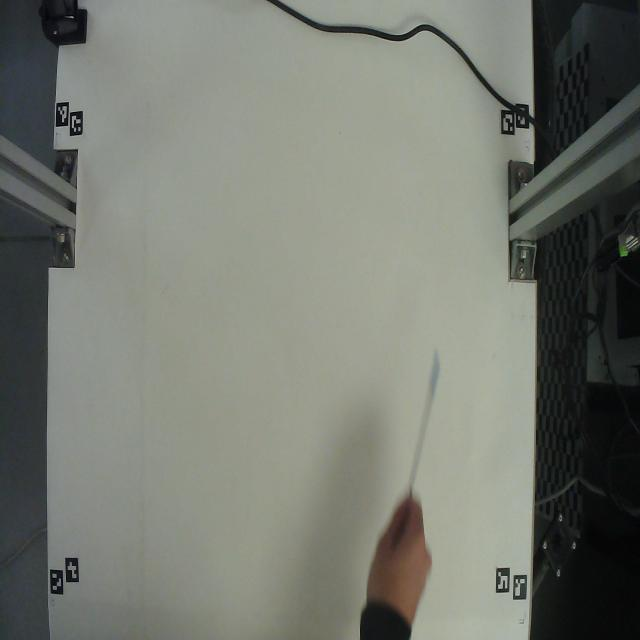NoPres: (391, 338, 460, 497)
